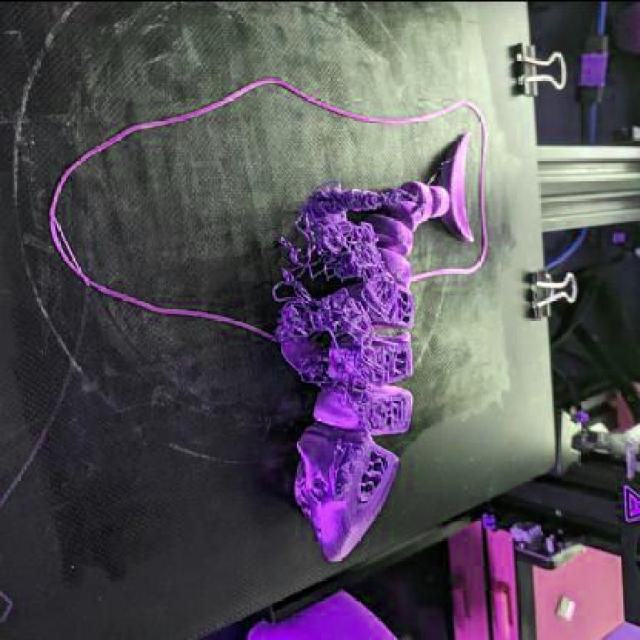Spaghetti: (273, 180, 401, 432)
